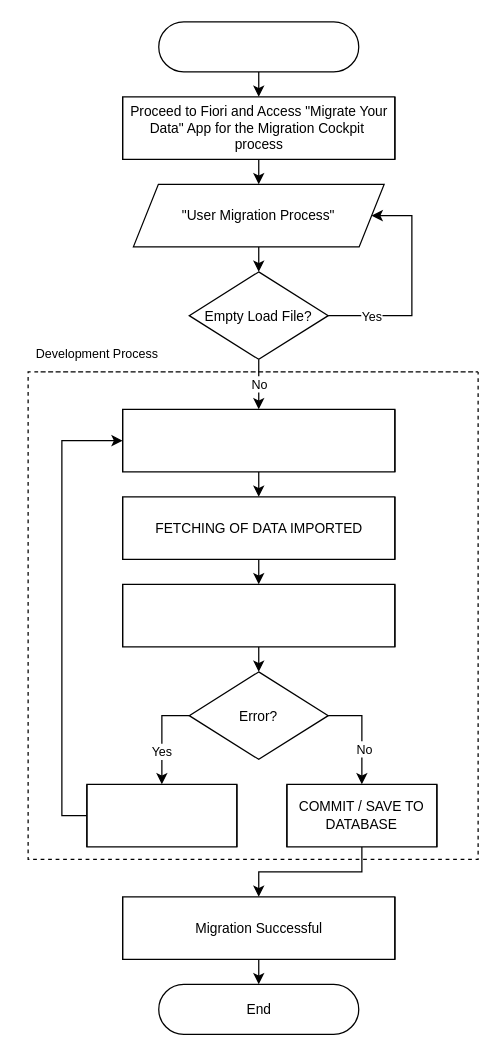
The diagram is 501 pixels wide and 1056 high, and some of its shapes have lost their labels. The shapes that lost their labels are listed below. From the top down, each one's centre as x and y in pixels, then its label:
At point 258,46: "Start".
At point 258,440: "CHECK EVERY ITEM LINE IN LOAD FILE".
At point 258,615: "ME_INFORECORD_MAINTAIN_MULTI".
At point 161,815: "ROLLBACK WORK".
